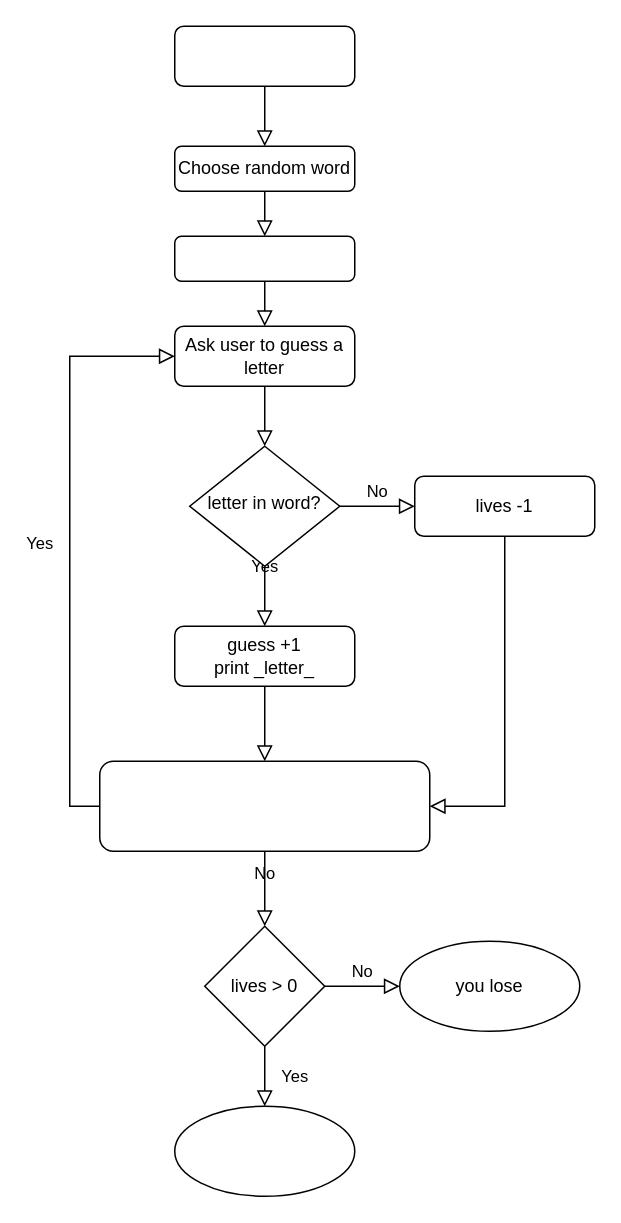
Image size: 621x1223. Some labels were removed from this diagram. The box of each missing label's shape, as (x1, y1, x2, y2) in pixels:
Generate blanks: (173, 235, 355, 281)
start: (173, 25, 355, 86)
while guess < len(word) and lives > 0: (98, 760, 430, 851)
you win: (173, 1105, 355, 1196)
